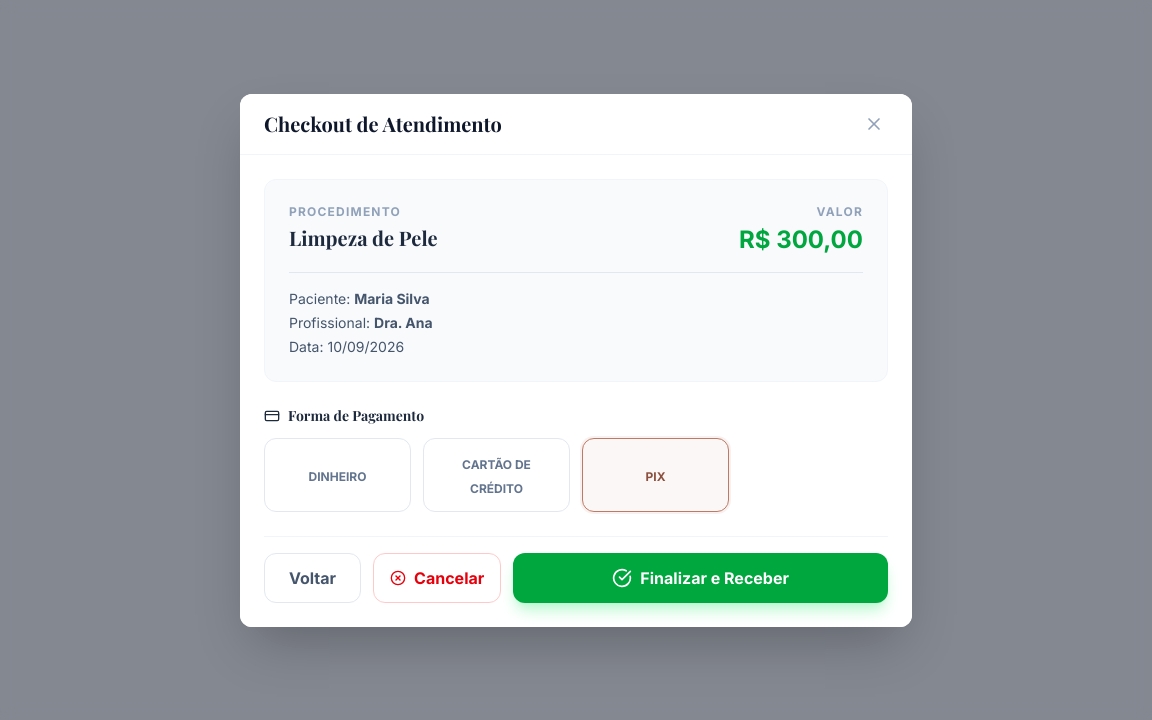
Test case: CheckoutModal — caminho feliz › avança para a tela de sucesso com o resumo (forma de pagamento)
Step 1. Click the button "Finalizar e Receber" → (701, 578), box [513,552,888,602]
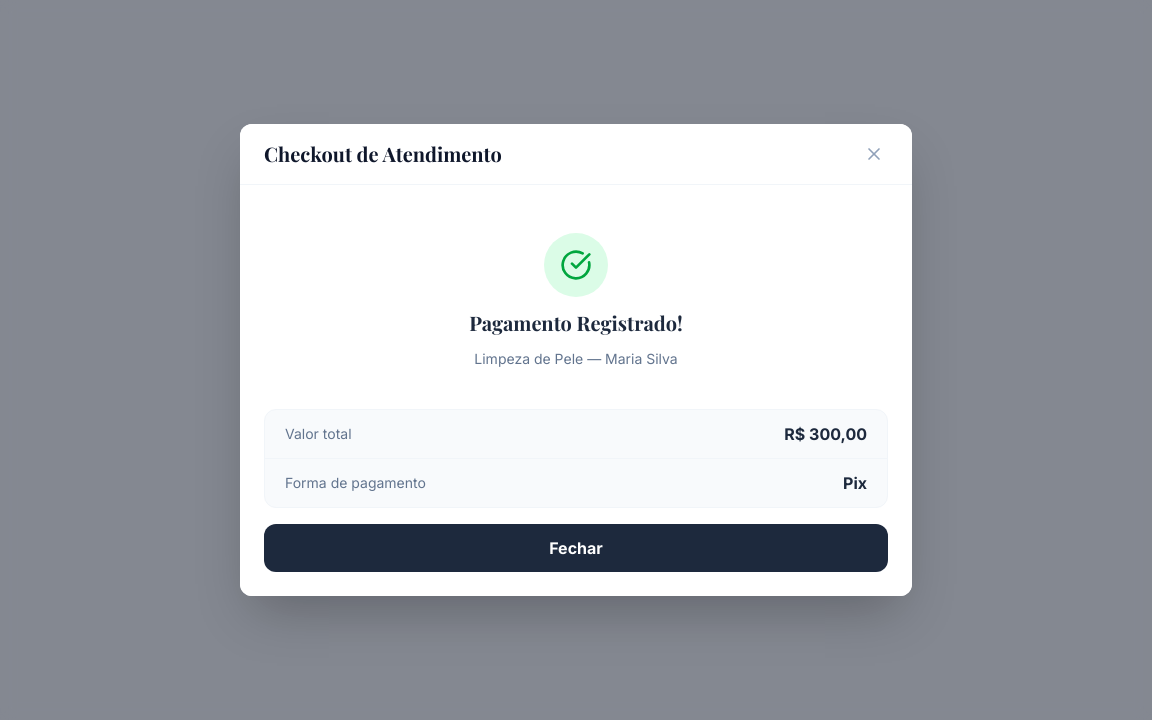
Expected: the text "Forma de pagamento" is shown, [285,473,426,493]
Expected: the heading "Pagamento Registrado!" is shown, [469,309,683,337]
